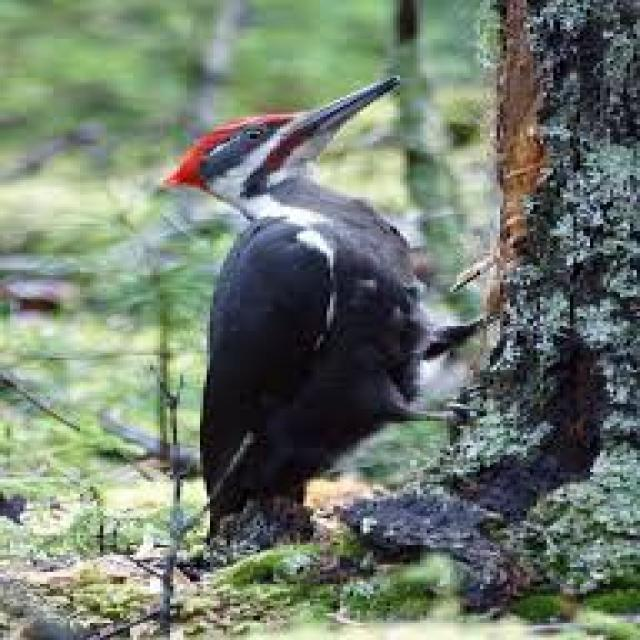Woodpecker: (167, 68, 498, 564)
